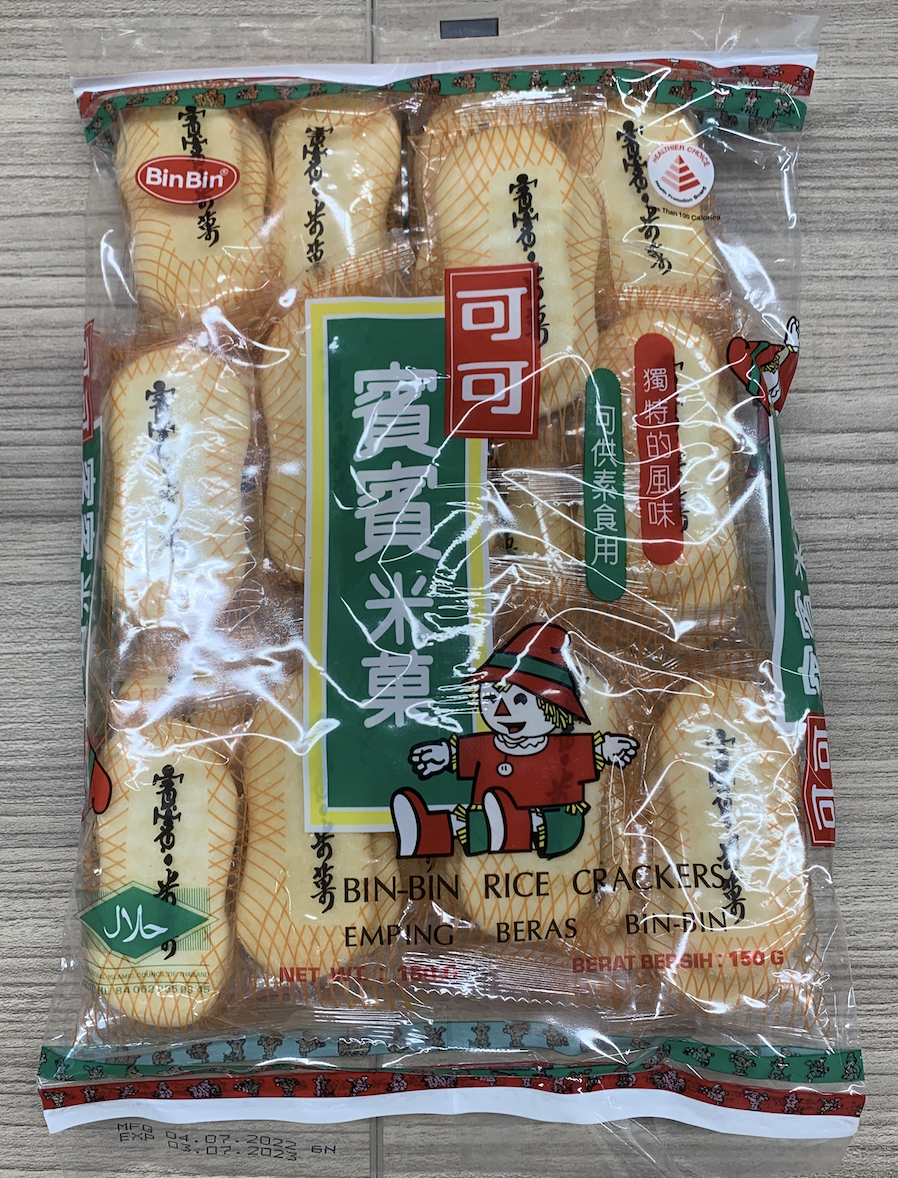crackers_150g: (102, 123, 807, 1054)
